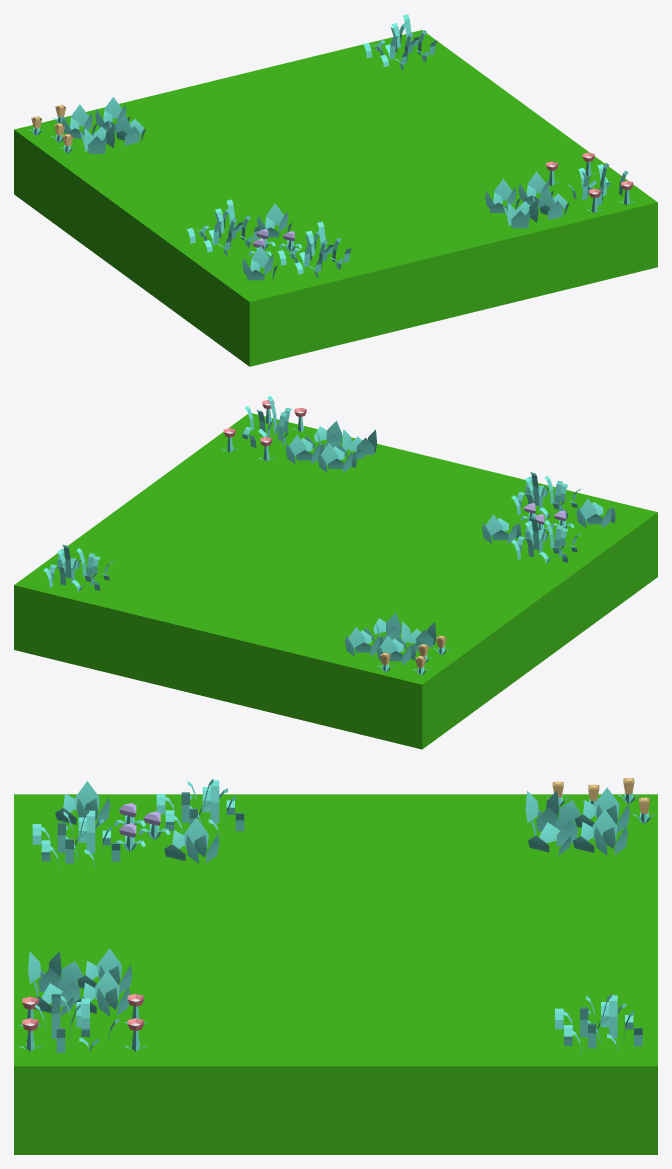
File: grass.glb
3 renders of one model, top to bottom at view 1: azimuth 30°, elevation 25°; view 2: azimuth 150°, elevation 25°; view 3: azimuth 270°, elevation 25°, orthographic. The views are drawn at different scales.
Parts seen in each view (by area): view 1: Mesh1 Group1 Model.001; view 2: Mesh1 Group1 Model.001; view 3: Mesh1 Group1 Model.001.
Part boxes in pixels (x1,y1,x2,y2): Mesh1 Group1 Model.001: [14, 14, 657, 366]; Mesh1 Group1 Model.001: [14, 395, 657, 749]; Mesh1 Group1 Model.001: [14, 778, 657, 1154].
Size of the model in its own units: 12 by 2.83 by 12.
